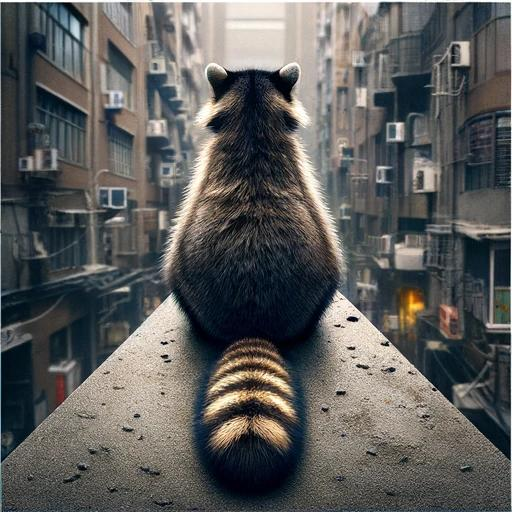raccoon: (151, 50, 354, 512)
